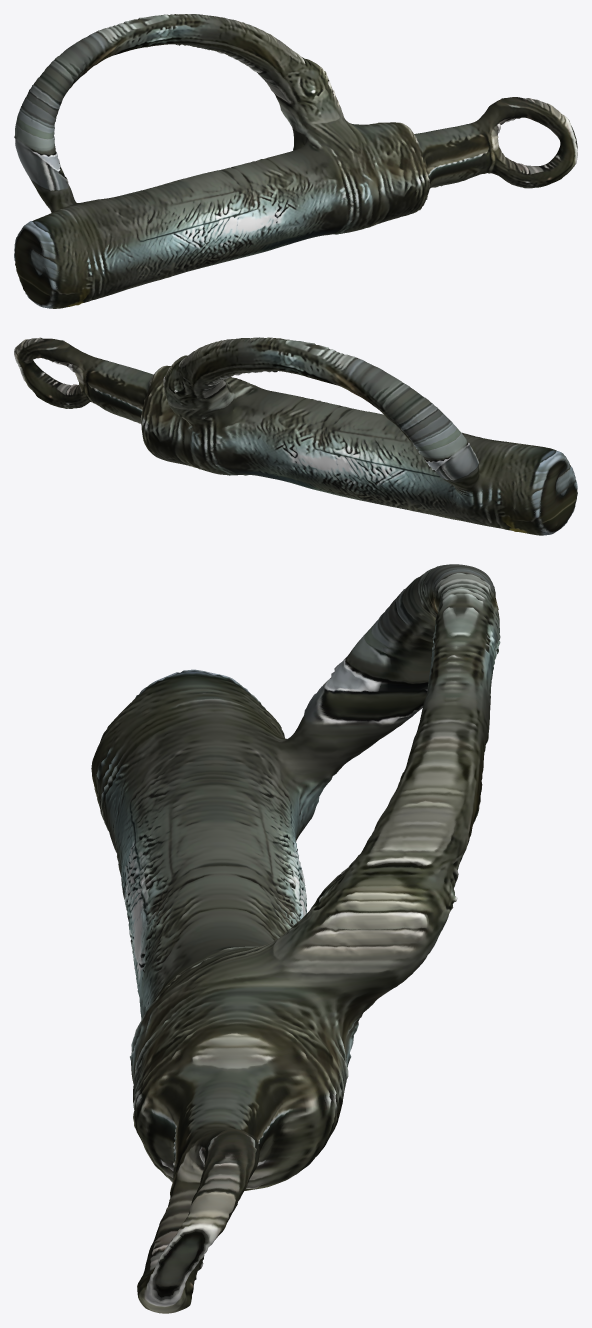
File: kfl-2142.glb
3 renders of one model, top to bottom at view 1: azimuth 30°, elevation 25°; view 2: azimuth 150°, elevation 25°; view 3: azimuth 270°, elevation 25°, orthographic. The views are drawn at different scales.
Parts seen in each view (by area): view 1: kfl-2142; view 2: kfl-2142; view 3: kfl-2142.
Part boxes in pixels (x1,y1,x2,y2): kfl-2142: (14,14,577,308); kfl-2142: (14,337,577,535); kfl-2142: (91,564,500,1313).
Bounding box in the file's own units: 0.9911 × 0.3478 × 0.3235.
1 material, 1 textured.
